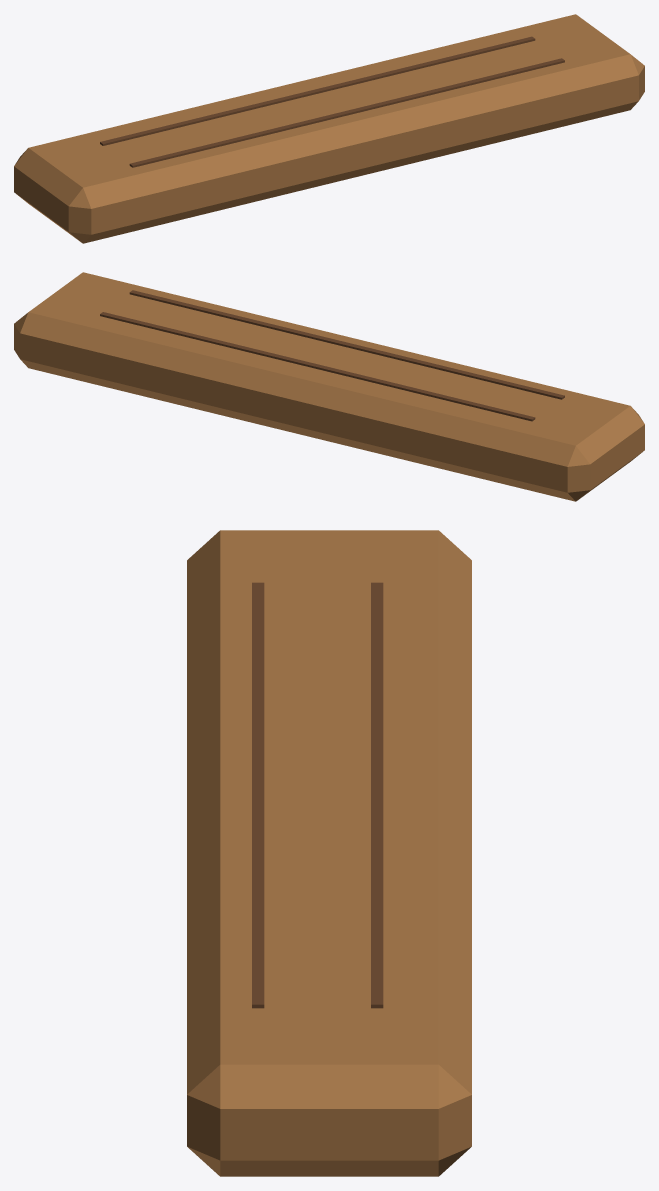
Rendered from item-plank.glb.
3 views of the same model, one above another, from view 1: azimuth 30°, elevation 25°; view 2: azimuth 150°, elevation 25°; view 3: azimuth 270°, elevation 25° (orthographic). The views are drawn at different scales.
Visible parts, largest first — view 1: item-plank.001; view 2: item-plank.001; view 3: item-plank.001.
Part boxes in pixels (left/top/right/bottom): item-plank.001: left=14, top=14, right=644, bottom=243; item-plank.001: left=14, top=272, right=644, bottom=501; item-plank.001: left=187, top=530, right=471, bottom=1176.
Bounding box in the file's own units: 1.4 × 0.1345 × 0.3.
